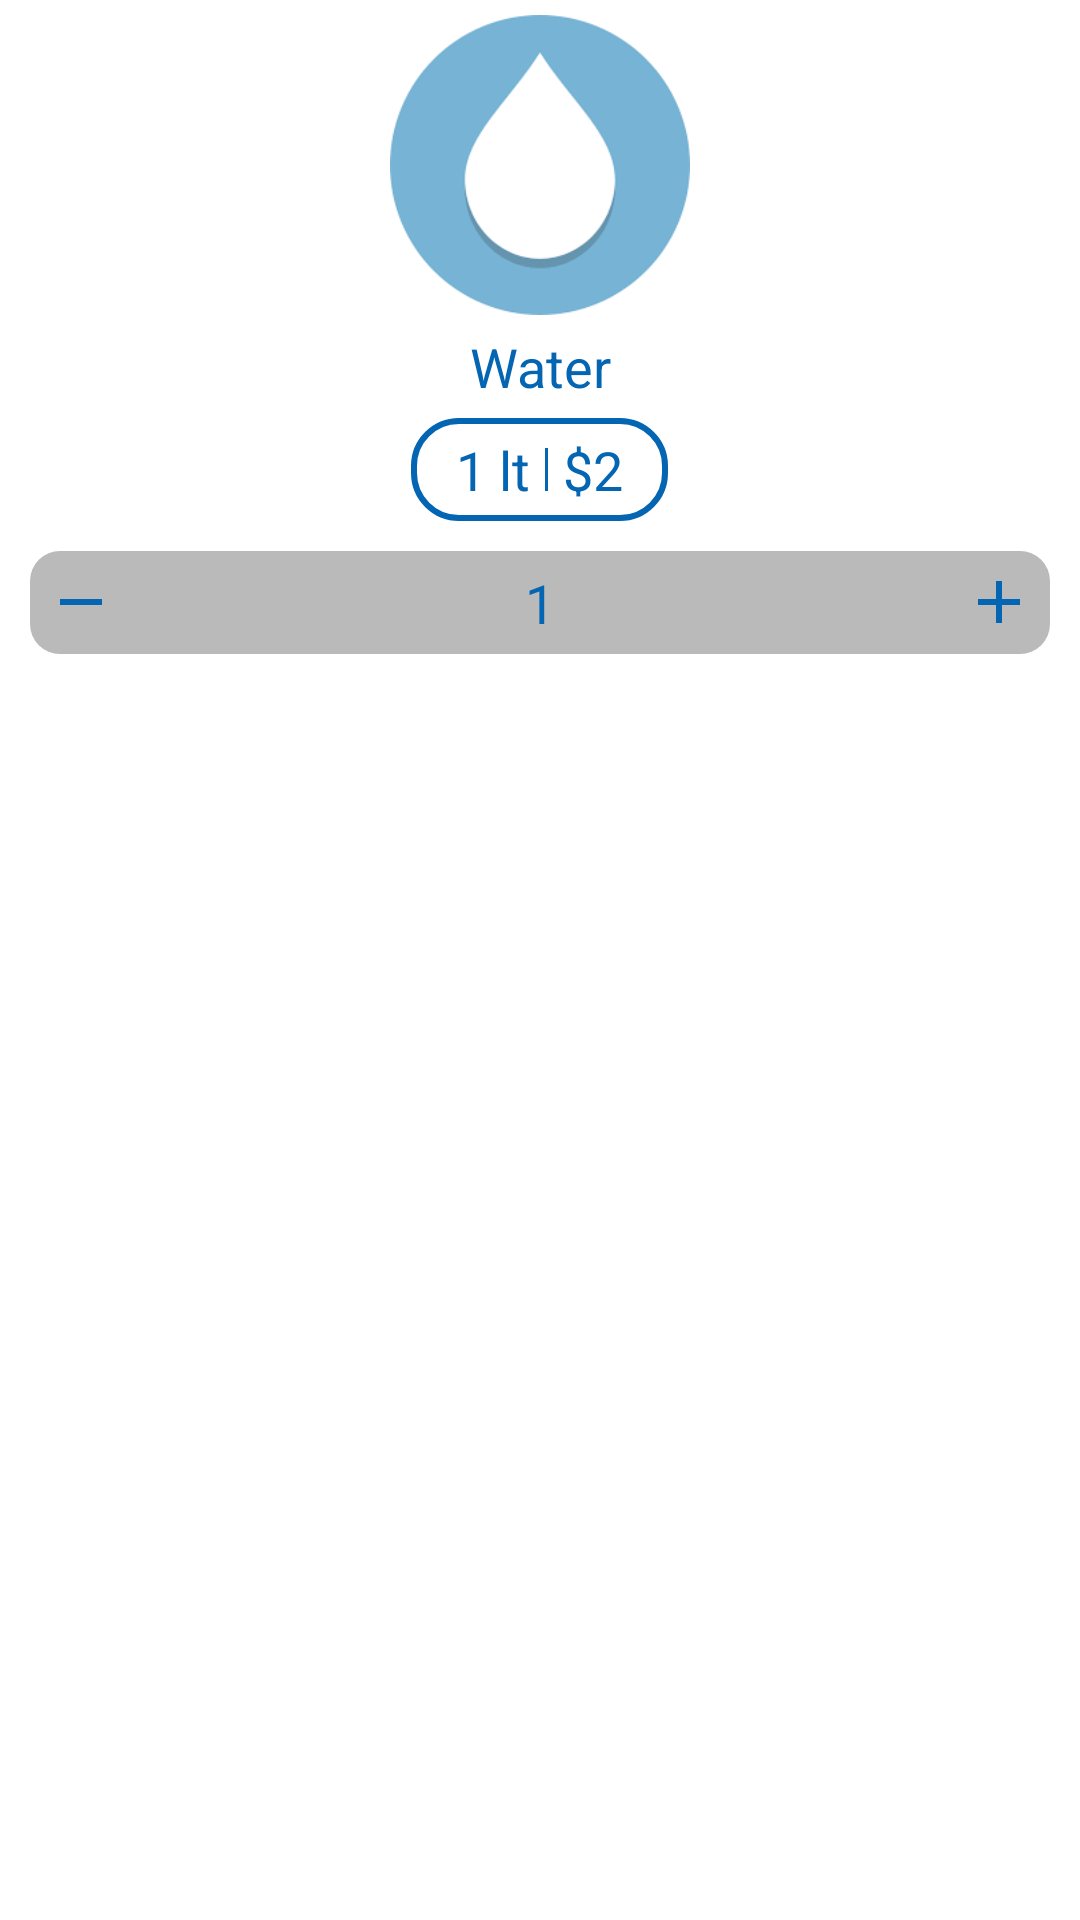

Icons on this 1080w x 1920h Android screen, each with its box as (x1, y1, x2, y2):
add: (978, 581, 1020, 623)
